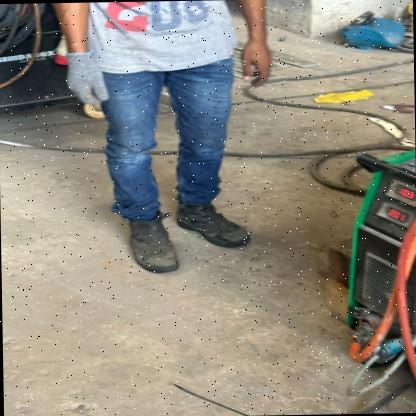bota: (112, 210, 186, 276), (176, 192, 256, 251)
